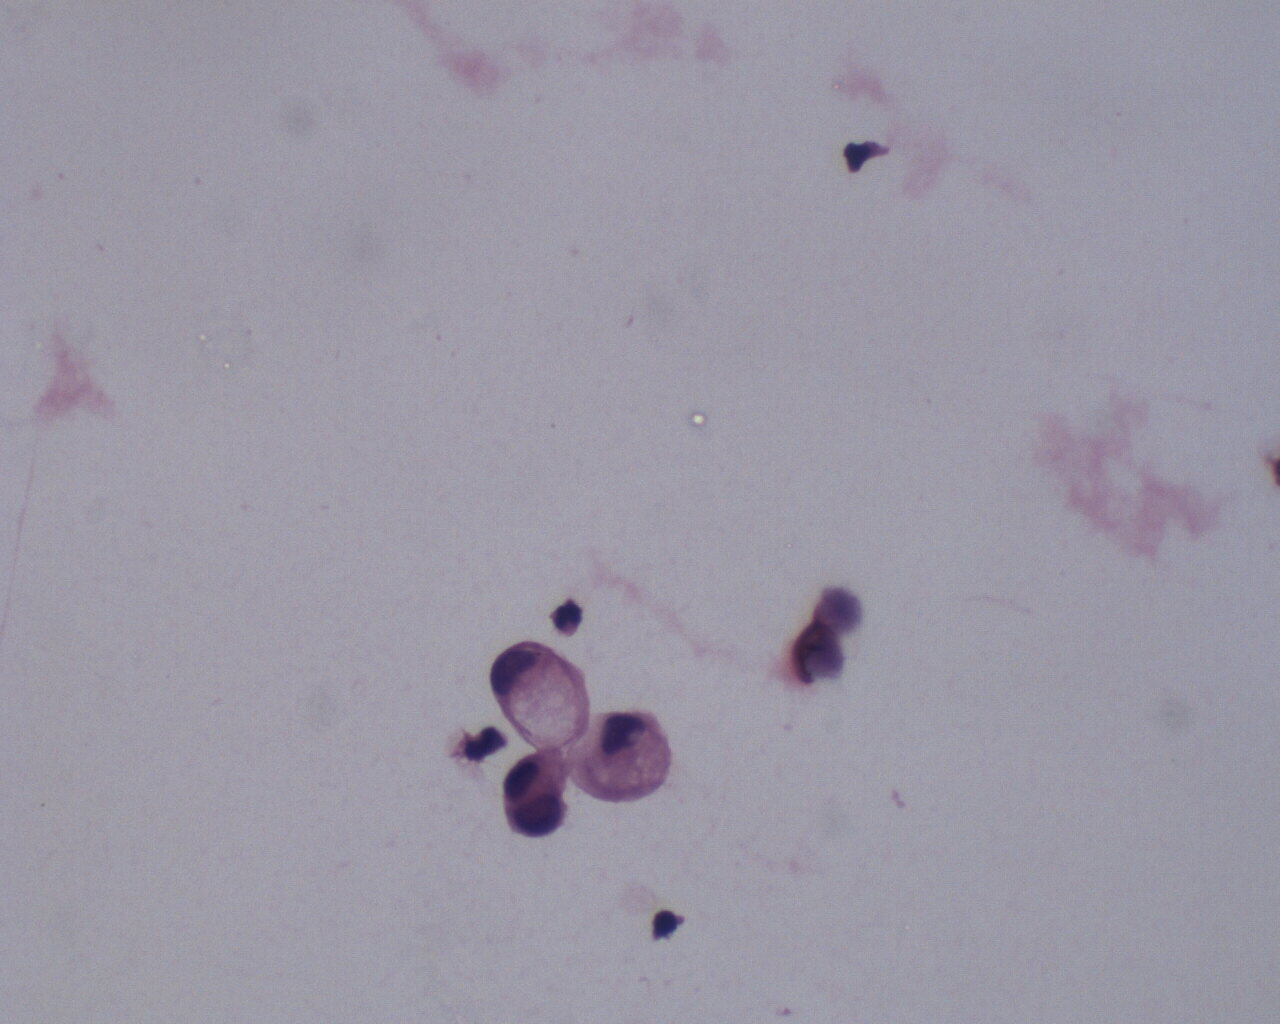ab: (502, 746, 569, 838)
histo: (487, 635, 594, 753), (575, 705, 679, 816)
neutro: (549, 598, 589, 637)
